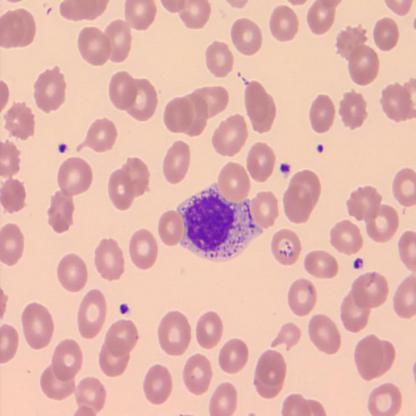Myelocyte: (178, 185, 262, 259)
